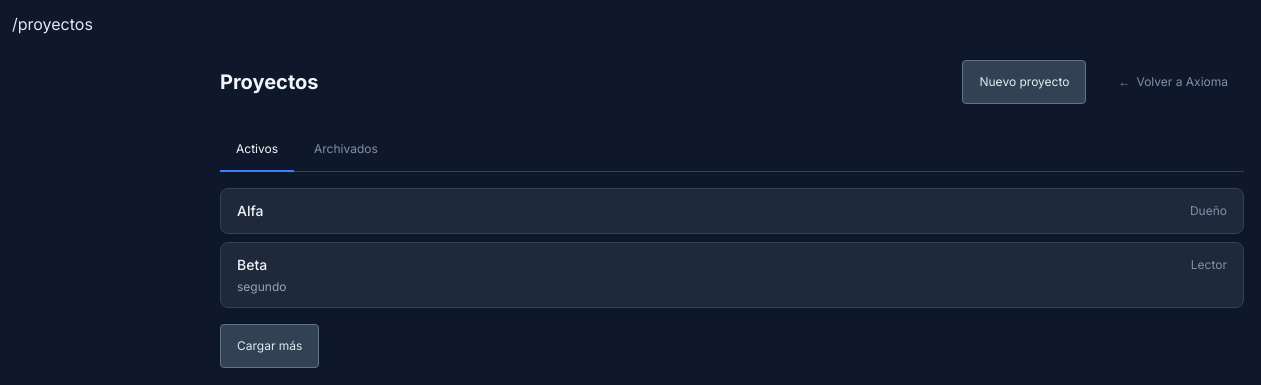
Test: Proyectos › «Cargar más» pide antesDe=siguiente y agrega al final; desaparece sin siguiente
Expected: the text "Alfa" is shown, top-left (237, 201), bottom-right (264, 221)
Click the button "Cargar más": point(270, 346) top-left (220, 324), bottom-right (319, 368)
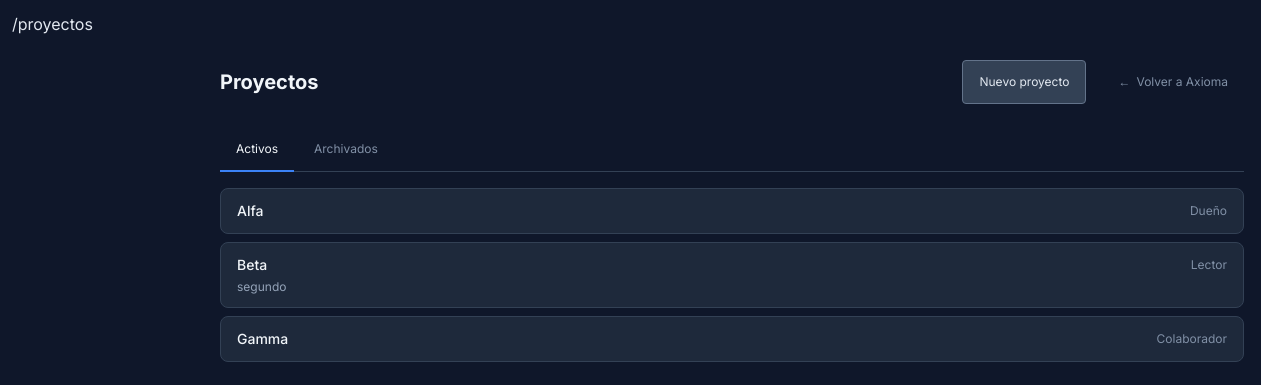
Expected: the text "Alfa" is shown, top-left (237, 201), bottom-right (264, 221)
Now the text "Gamma" is shown, box top-left (237, 329), bottom-right (288, 349)
Now the button "Cargar más" is gone
